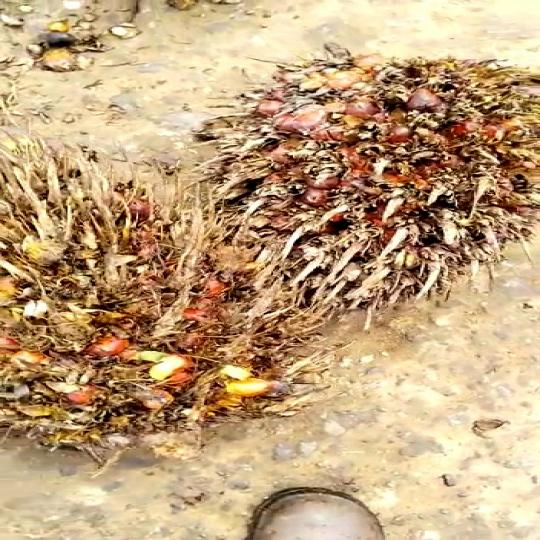terlalu masak: (170, 56, 540, 304), (0, 169, 290, 448)
